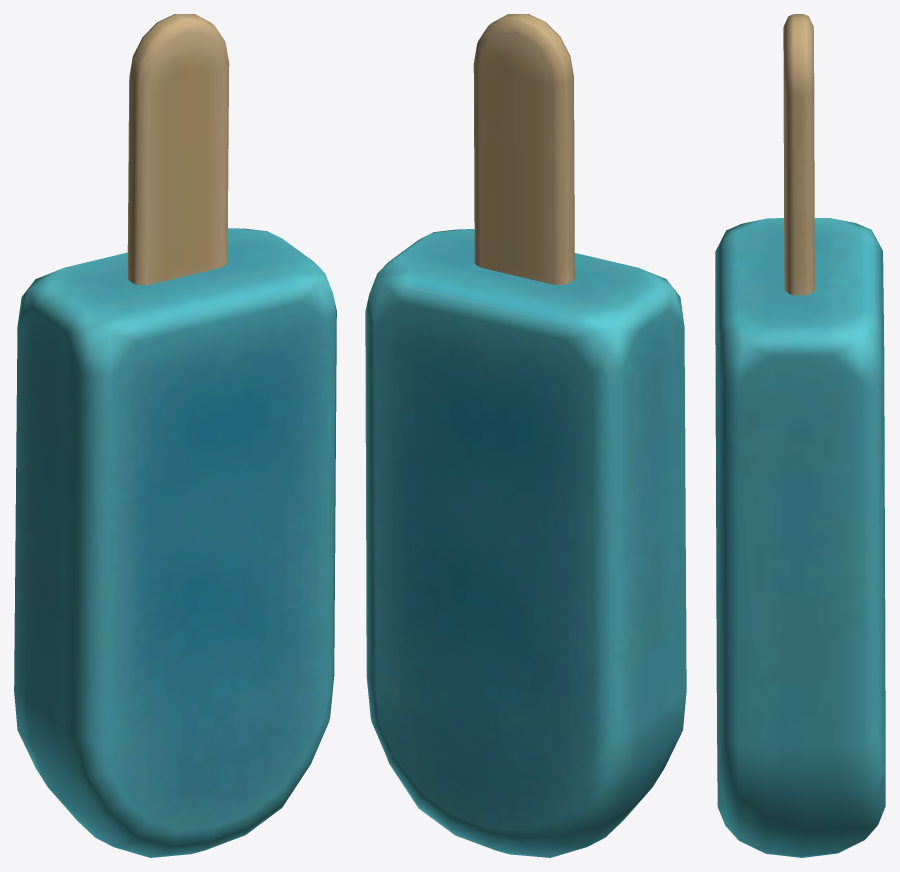
File: ToolIcecandySoda.glb
The picture shows the model from 3 angles, left to right: view 1: azimuth 30°, elevation 25°; view 2: azimuth 150°, elevation 25°; view 3: azimuth 270°, elevation 25°; orthographic projection.
Parts seen in each view (by area): view 1: bar_right__mTool; view 2: bar_right__mTool; view 3: bar_right__mTool.
Boxes of the visible parts, x1=… form: bar_right__mTool: x1=14, y1=14, x2=336, y2=857; bar_right__mTool: x1=365, y1=14, x2=686, y2=857; bar_right__mTool: x1=715, y1=14, x2=885, y2=857.
Size of the model in its own units: 1.23 by 3.73 by 0.6975.
1 material, 1 textured.
